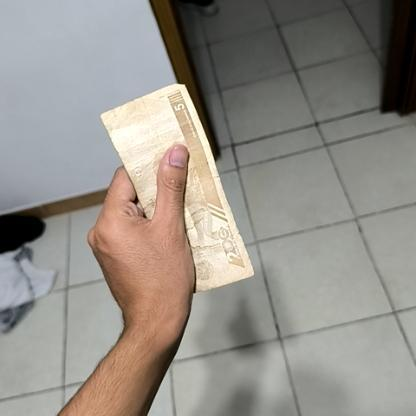five-back-vef: (100, 82, 254, 294)
